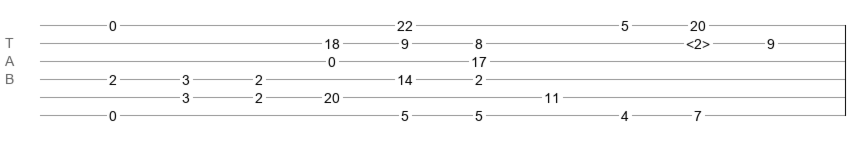0: (109, 18, 117, 28), (109, 108, 117, 118), (328, 54, 336, 64)
11: (544, 90, 560, 100)
14: (397, 72, 413, 82)
17: (471, 54, 487, 64)
18: (324, 36, 340, 46)
2: (109, 72, 117, 82), (255, 72, 263, 82), (255, 90, 263, 100), (475, 72, 483, 82)
20: (324, 90, 340, 100), (690, 18, 706, 28)
22: (397, 18, 413, 28)
3: (182, 72, 190, 82), (182, 90, 190, 100)
4: (621, 108, 629, 118)
5: (401, 108, 409, 118), (475, 108, 483, 118), (621, 18, 629, 28)
7: (694, 108, 702, 118)
8: (475, 36, 483, 46)
9: (401, 36, 409, 46), (767, 36, 775, 46)
harmonic: (686, 36, 710, 46)
